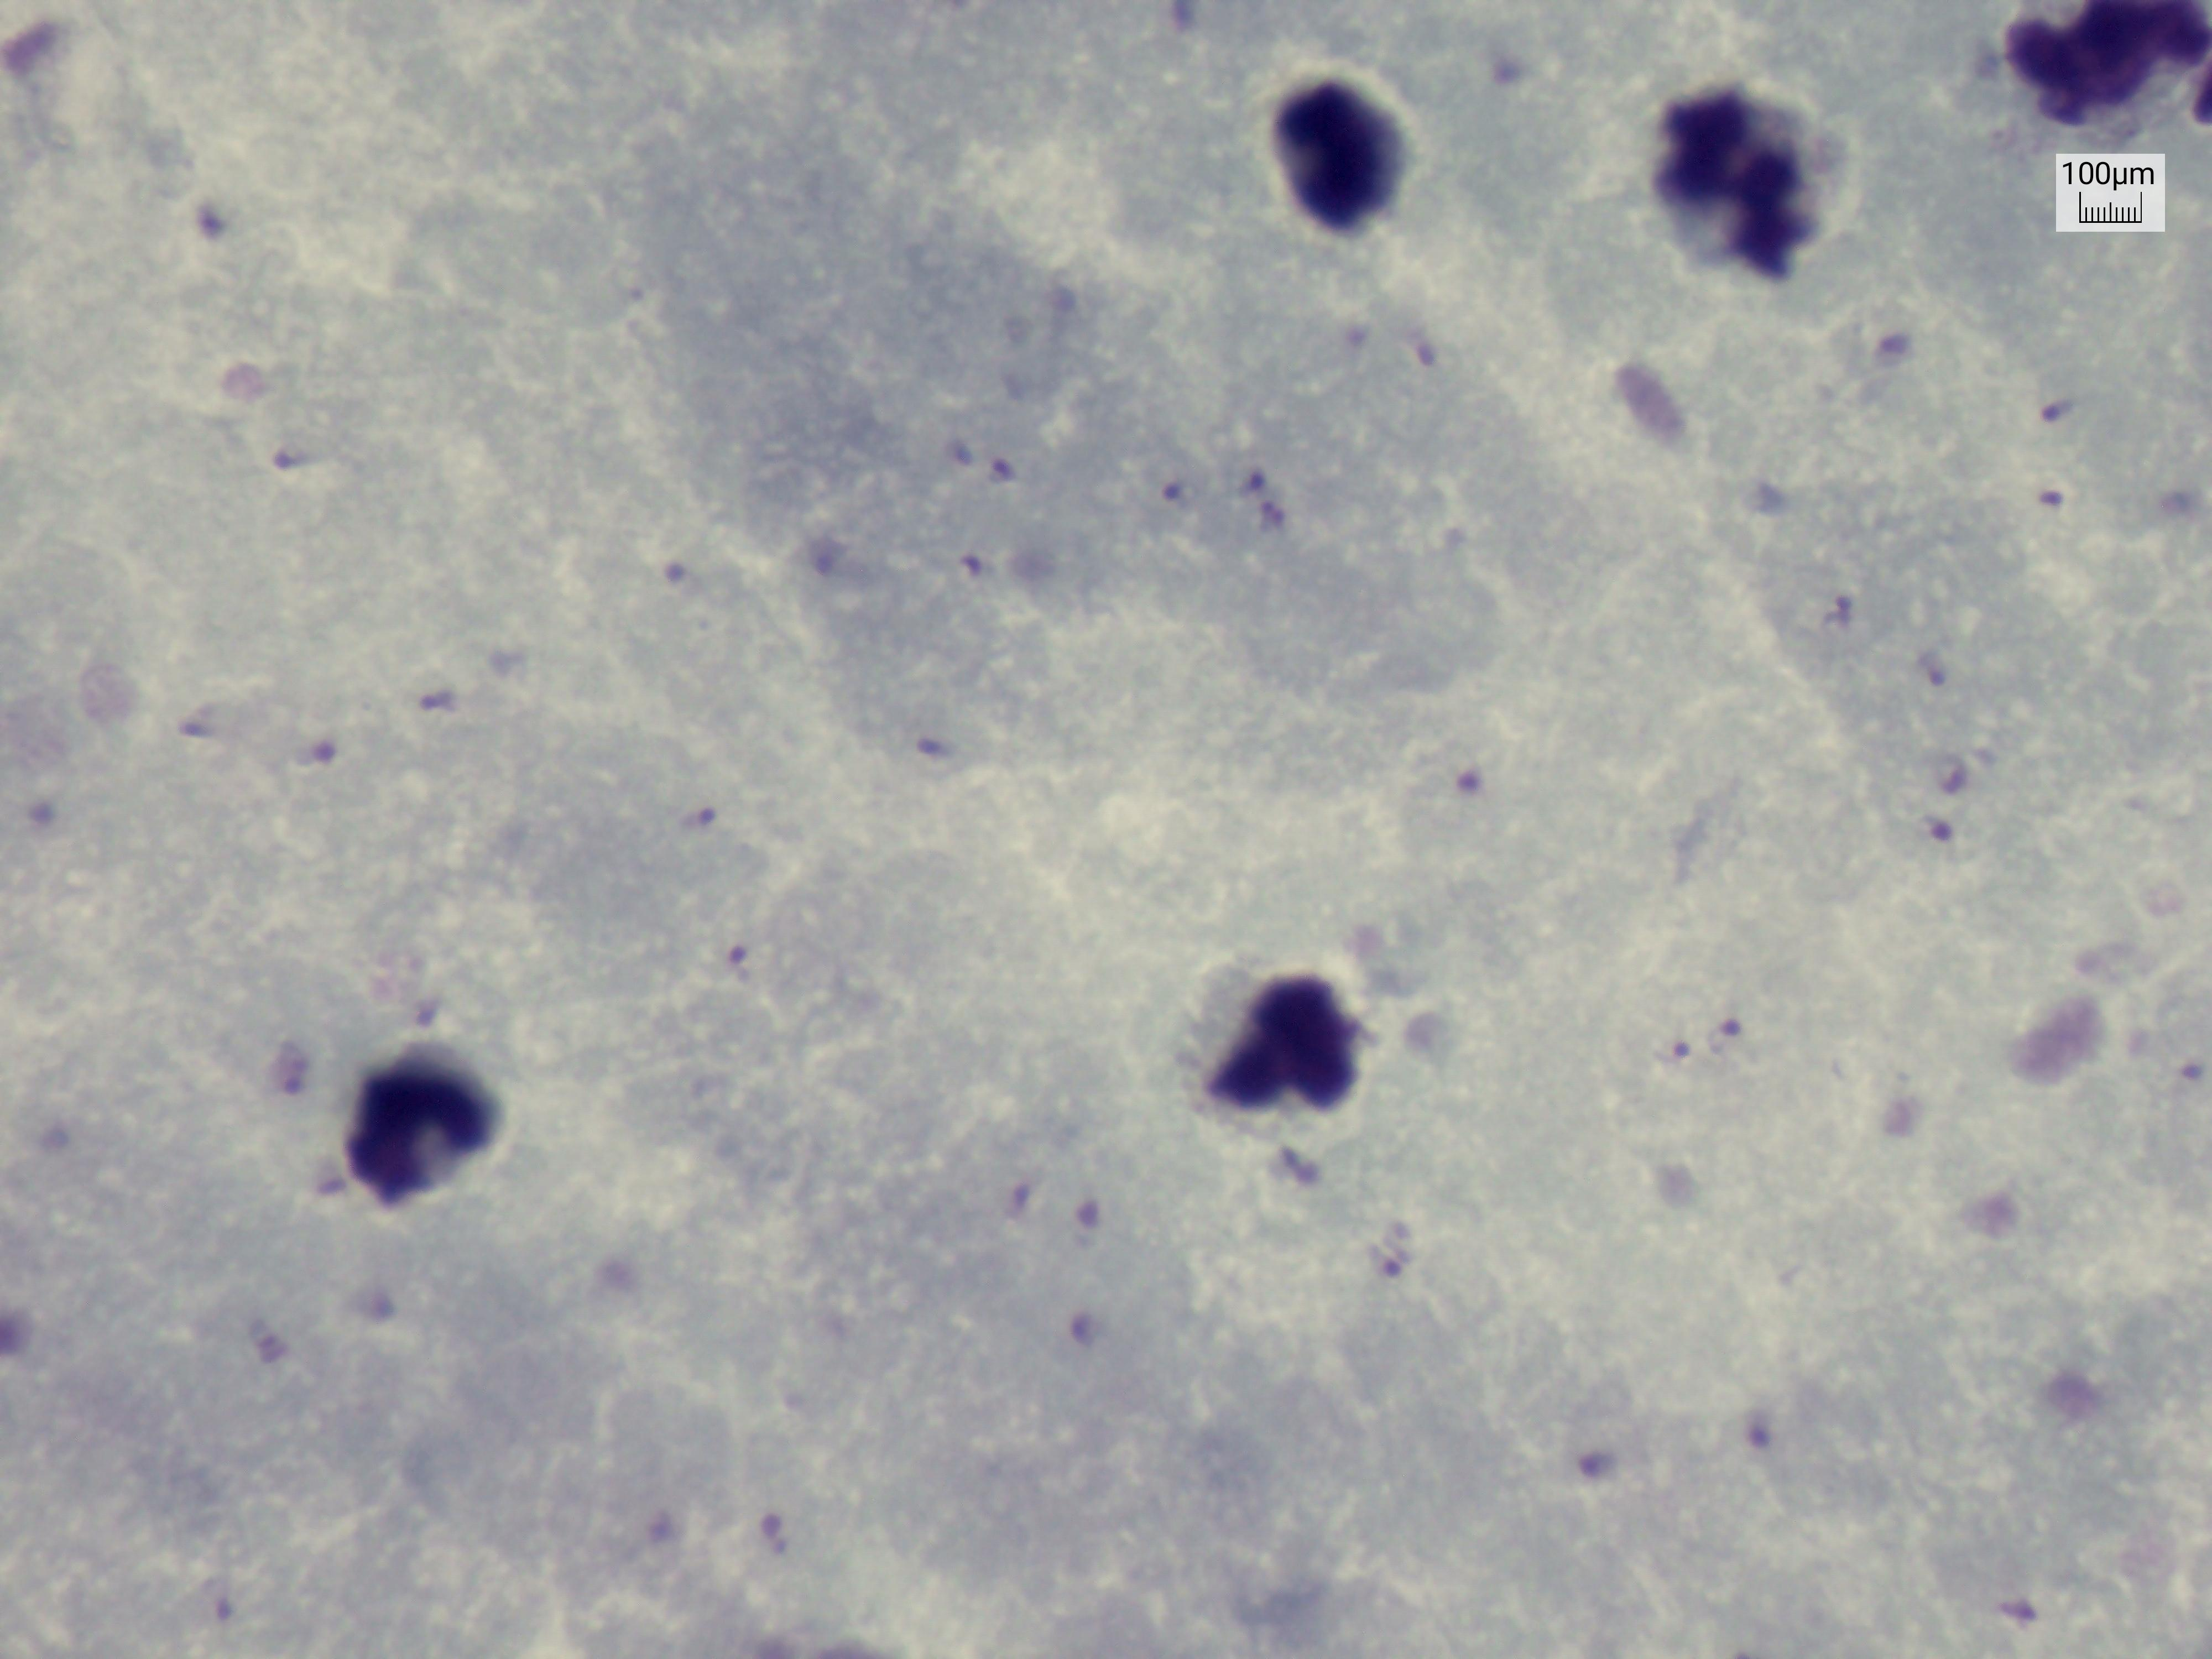p.falciparum: (1345, 300, 1484, 396), (1449, 28, 1580, 124), (1228, 441, 1322, 545), (387, 667, 491, 760), (1916, 730, 1986, 861), (1665, 979, 1750, 1086), (2024, 366, 2083, 511), (928, 415, 1033, 495), (1059, 1267, 1132, 1380), (1413, 739, 1501, 824), (230, 1300, 301, 1405), (664, 781, 745, 863), (244, 418, 350, 481), (1360, 1211, 1433, 1298), (697, 918, 763, 1011), (1980, 1563, 2055, 1642), (1559, 1413, 1622, 1506), (1797, 565, 1869, 641), (738, 1480, 801, 1567), (881, 702, 949, 781), (1726, 1389, 1808, 1453), (979, 1145, 1040, 1230), (165, 692, 240, 758), (1905, 626, 1973, 697), (249, 1049, 341, 1101), (282, 725, 359, 788), (2160, 1030, 2212, 1121), (935, 526, 1001, 594), (653, 507, 695, 610), (171, 186, 237, 249), (1144, 451, 1198, 525)
p.vivax: (1068, 1168, 1116, 1260)
